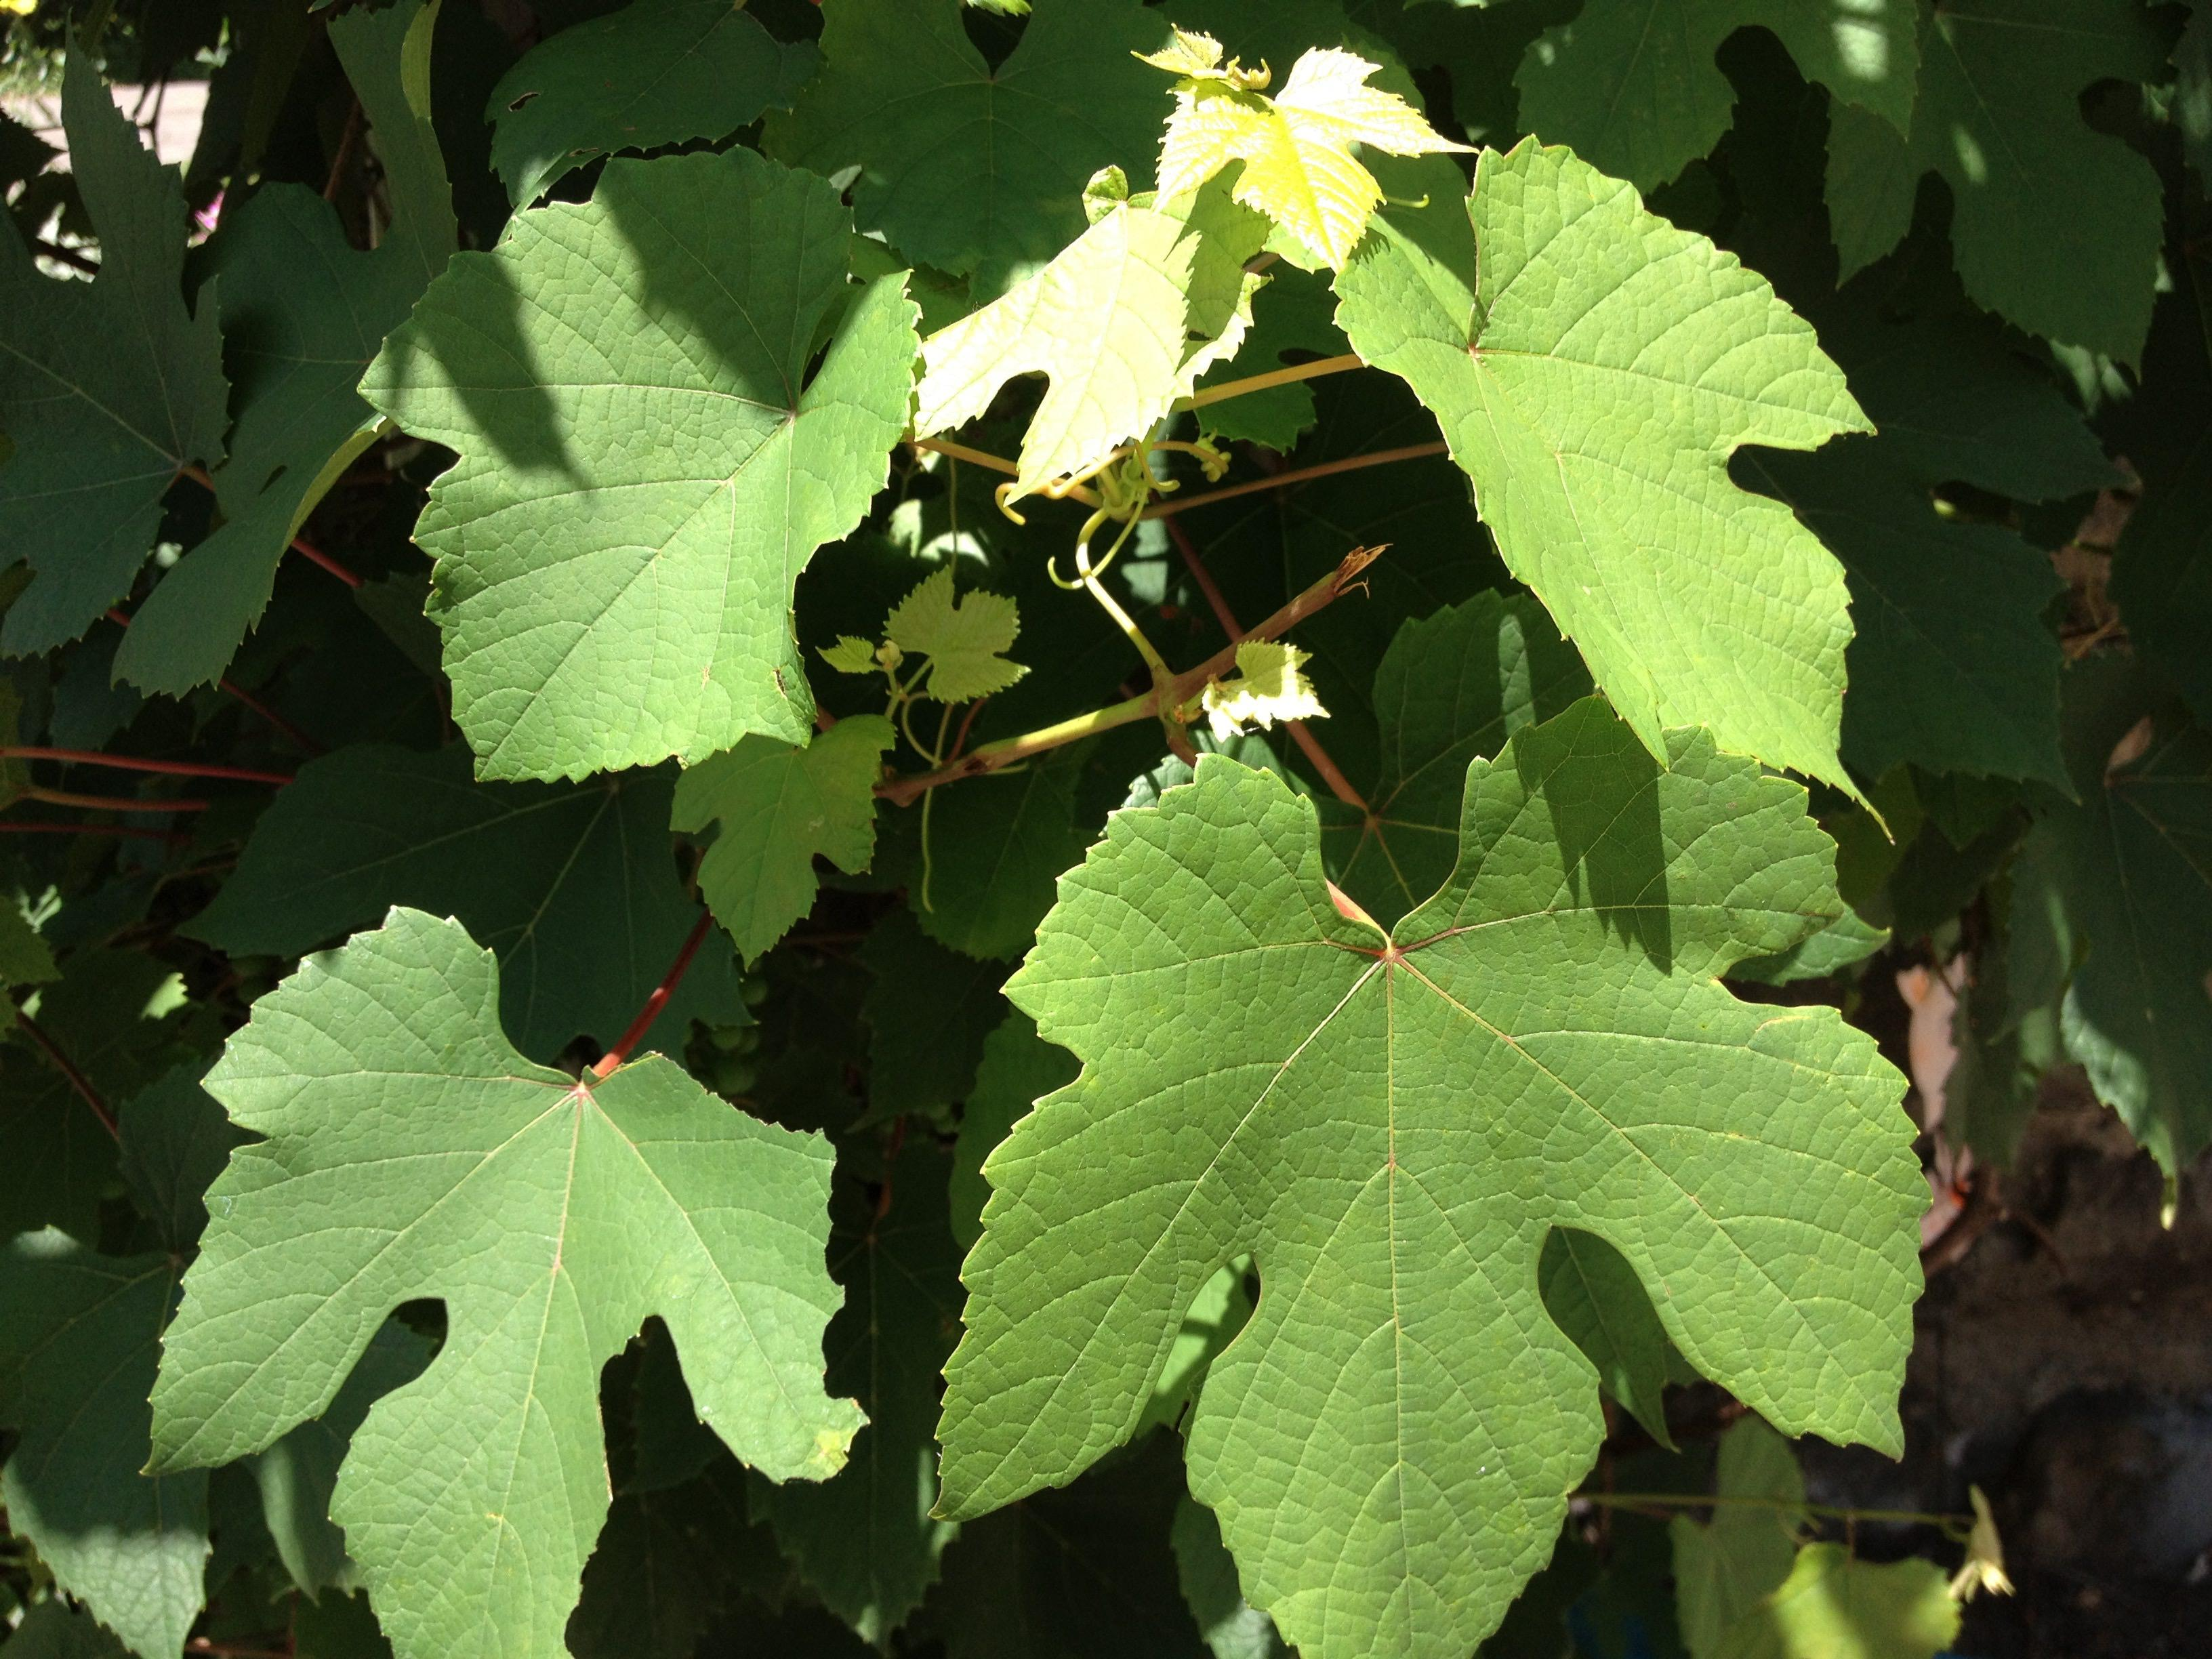grape leaf black rot: (928, 718, 1942, 1659), (110, 911, 864, 1657), (322, 132, 944, 810), (1332, 134, 1909, 831), (1150, 49, 1486, 275)
